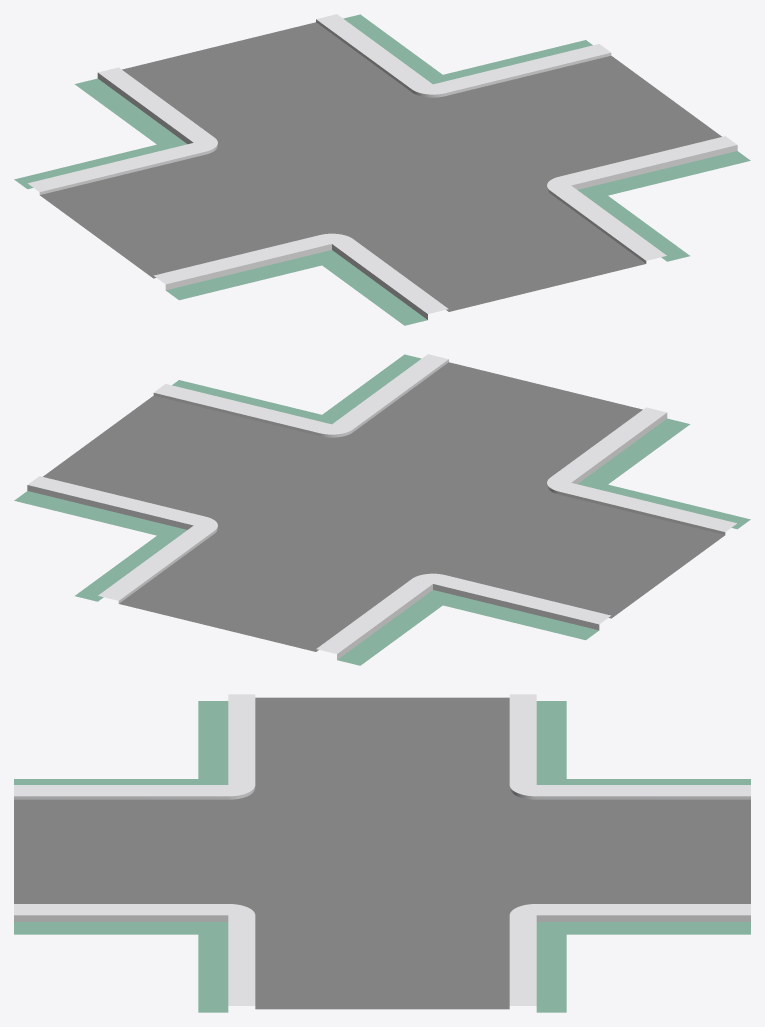
File: roadCrossing.glb
The picture shows the model from 3 angles, top to bottom: view 1: azimuth 30°, elevation 25°; view 2: azimuth 150°, elevation 25°; view 3: azimuth 270°, elevation 25°; orthographic projection. The views are drawn at different scales.
Parts seen in each view (by area): view 1: roadCrossing; view 2: roadCrossing; view 3: roadCrossing.
Part boxes in pixels (x1,y1,x2,y2): roadCrossing: [14, 14, 750, 325]; roadCrossing: [14, 354, 750, 665]; roadCrossing: [14, 694, 750, 1012].
Bounding box in the file's own units: 10 × 0.1 × 10.
